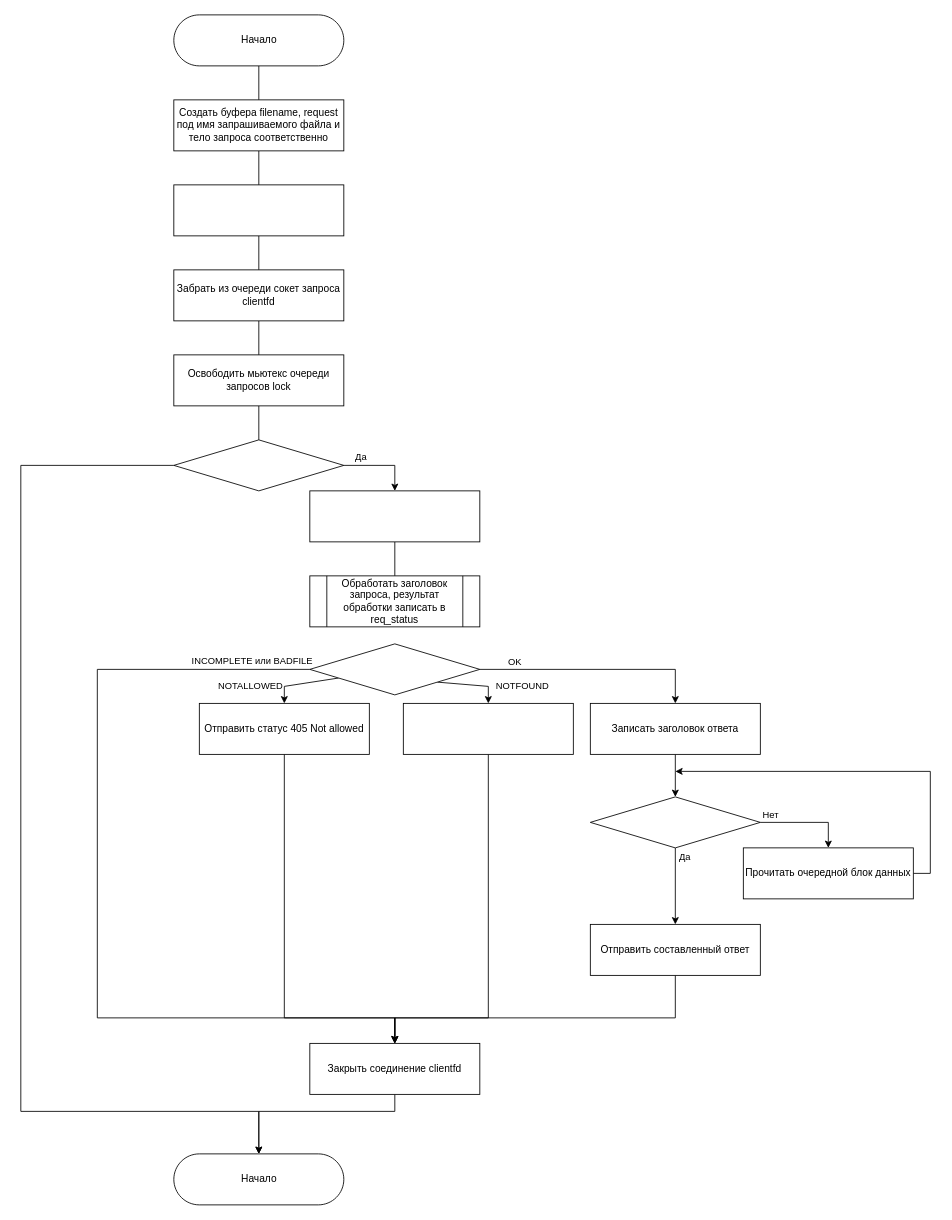
Image size: 952x1220. Some labels were removed from this diagram. Each missing label, with the centre of its shape:
"clientfd != -1 ?" goes at [258,465].
"req_status" goes at [394,669].
"Все данные файла прочитаны?" goes at [674,822].
"Захватить мьютекс очереди запросов lock" goes at [258,210].
"Отправить статус 404 Not found" goes at [487,728].
"Прочитать HTTP-запрос в буфер request" goes at [394,516].
